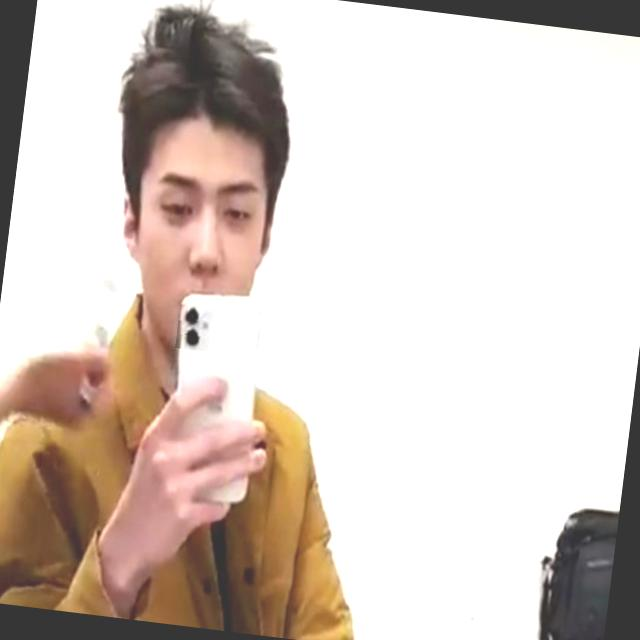lens_back: (180, 304, 204, 325), (180, 326, 200, 348)
phone: (152, 288, 274, 508)
